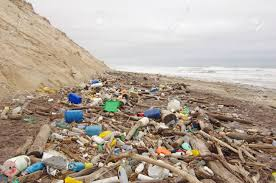garbage: (51, 96, 240, 183), (63, 88, 213, 183), (39, 128, 271, 183), (92, 81, 211, 183)
